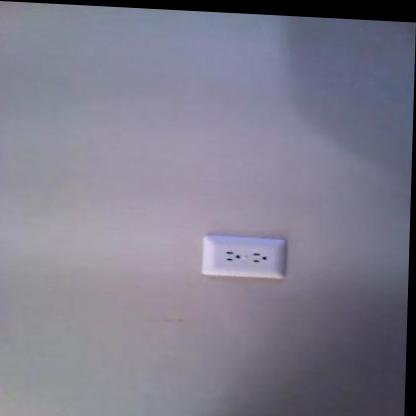OUTLET: (200, 233, 287, 279)
